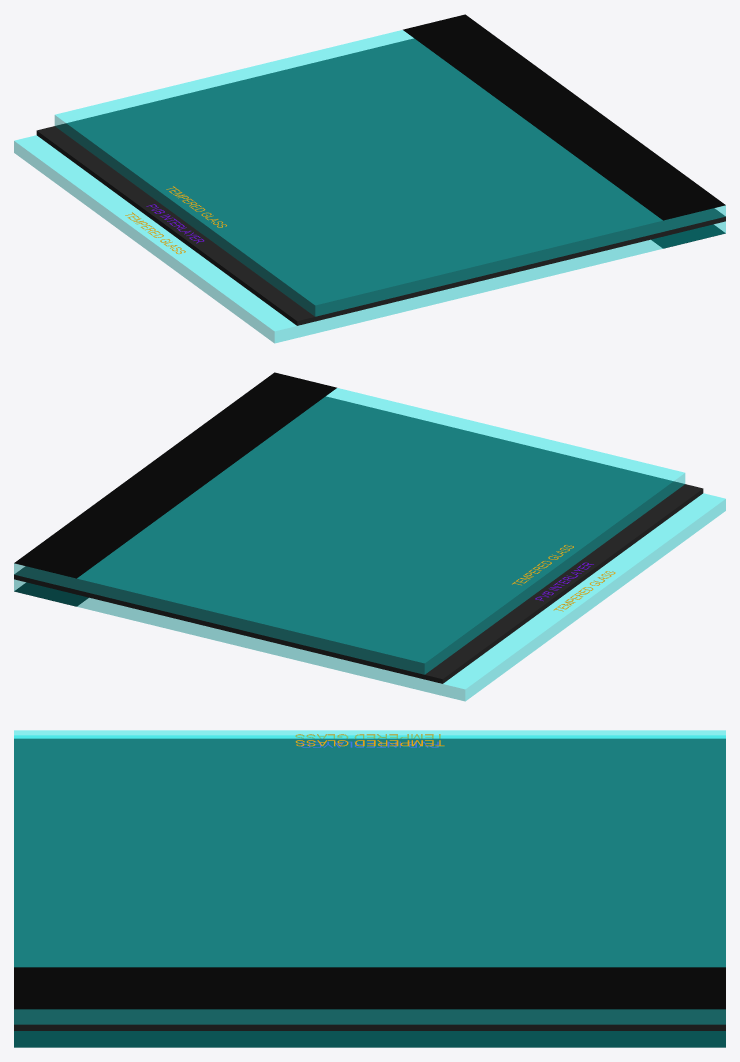
File: laminated-marine-safety-glass.glb
3 views of the same model, one above another, from view 1: azimuth 30°, elevation 25°; view 2: azimuth 150°, elevation 25°; view 3: azimuth 270°, elevation 25° (orthographic). The views are drawn at different scales.
Visible parts, largest first — view 1: 1111_c6dca5, world, 1111_108eb2, 1111_eb59bb; view 2: 1111_c6dca5, world, 1111_108eb2, 1111_eb59bb; view 3: 1111_c6dca5, world, 1111_108eb2, 1111_eb59bb.
Boxes of the visible parts, <box> form: 1111_c6dca5: <box>14,30,725,343</box>; world: <box>36,38,725,325</box>; 1111_108eb2: <box>403,14,725,248</box>; 1111_eb59bb: <box>125,186,226,253</box>; 1111_c6dca5: <box>14,388,725,701</box>; world: <box>14,396,703,683</box>; 1111_108eb2: <box>14,372,336,606</box>; 1111_eb59bb: <box>512,544,615,611</box>; 1111_c6dca5: <box>14,730,725,1047</box>; world: <box>14,738,725,1030</box>; 1111_108eb2: <box>14,967,725,1047</box>; 1111_eb59bb: <box>295,734,444,746</box>.
Size of the model in its own units: 0.5 by 0.03 by 0.5.
